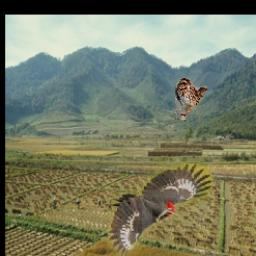Sparrow: (176, 78, 208, 121)
Woodpecker: (109, 164, 214, 256)
